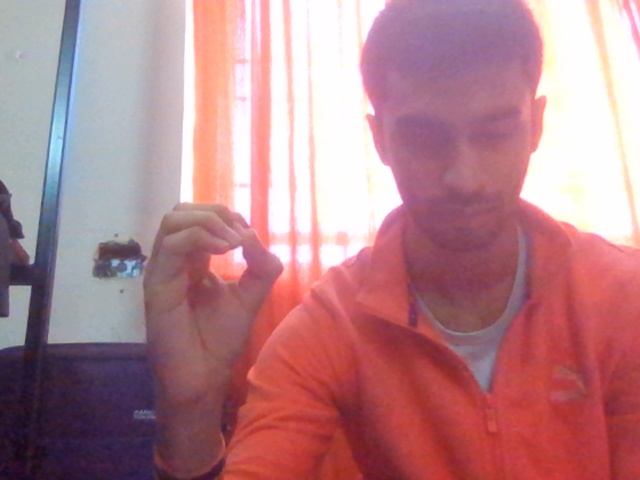O: (125, 169, 326, 438)
